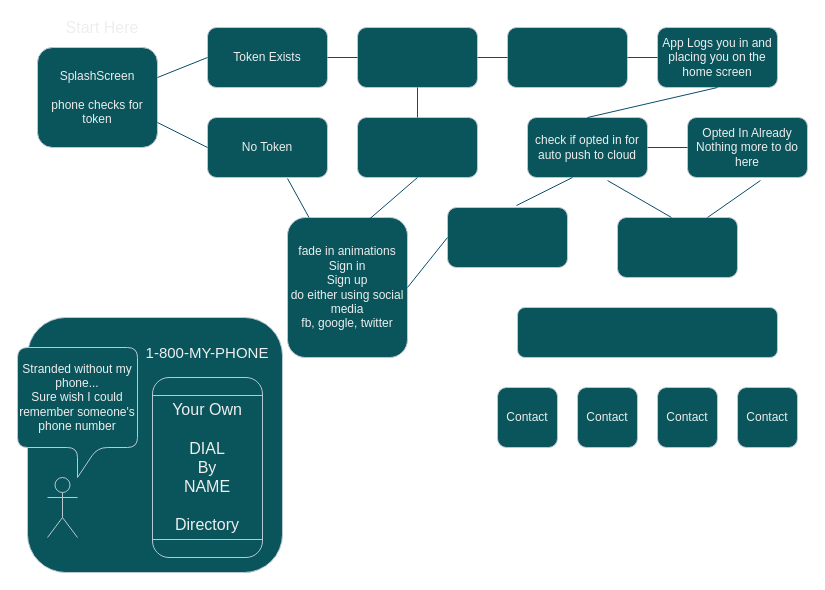
The diagram is 825 pixels wide and 590 high, and some of its shapes have lost their labels. Each missing label, with the centre of its shape:
Actor: the point at 62,507
Backup up contacts while asking them to opt in for auto updates: the point at 677,247
POST /api/auth to validate token: the point at 417,57
Sign In: the point at 507,237
Token Not Valid get's 400 back: the point at 417,147
Token Valid Responds with 200: the point at 567,57
User: the point at 647,332
